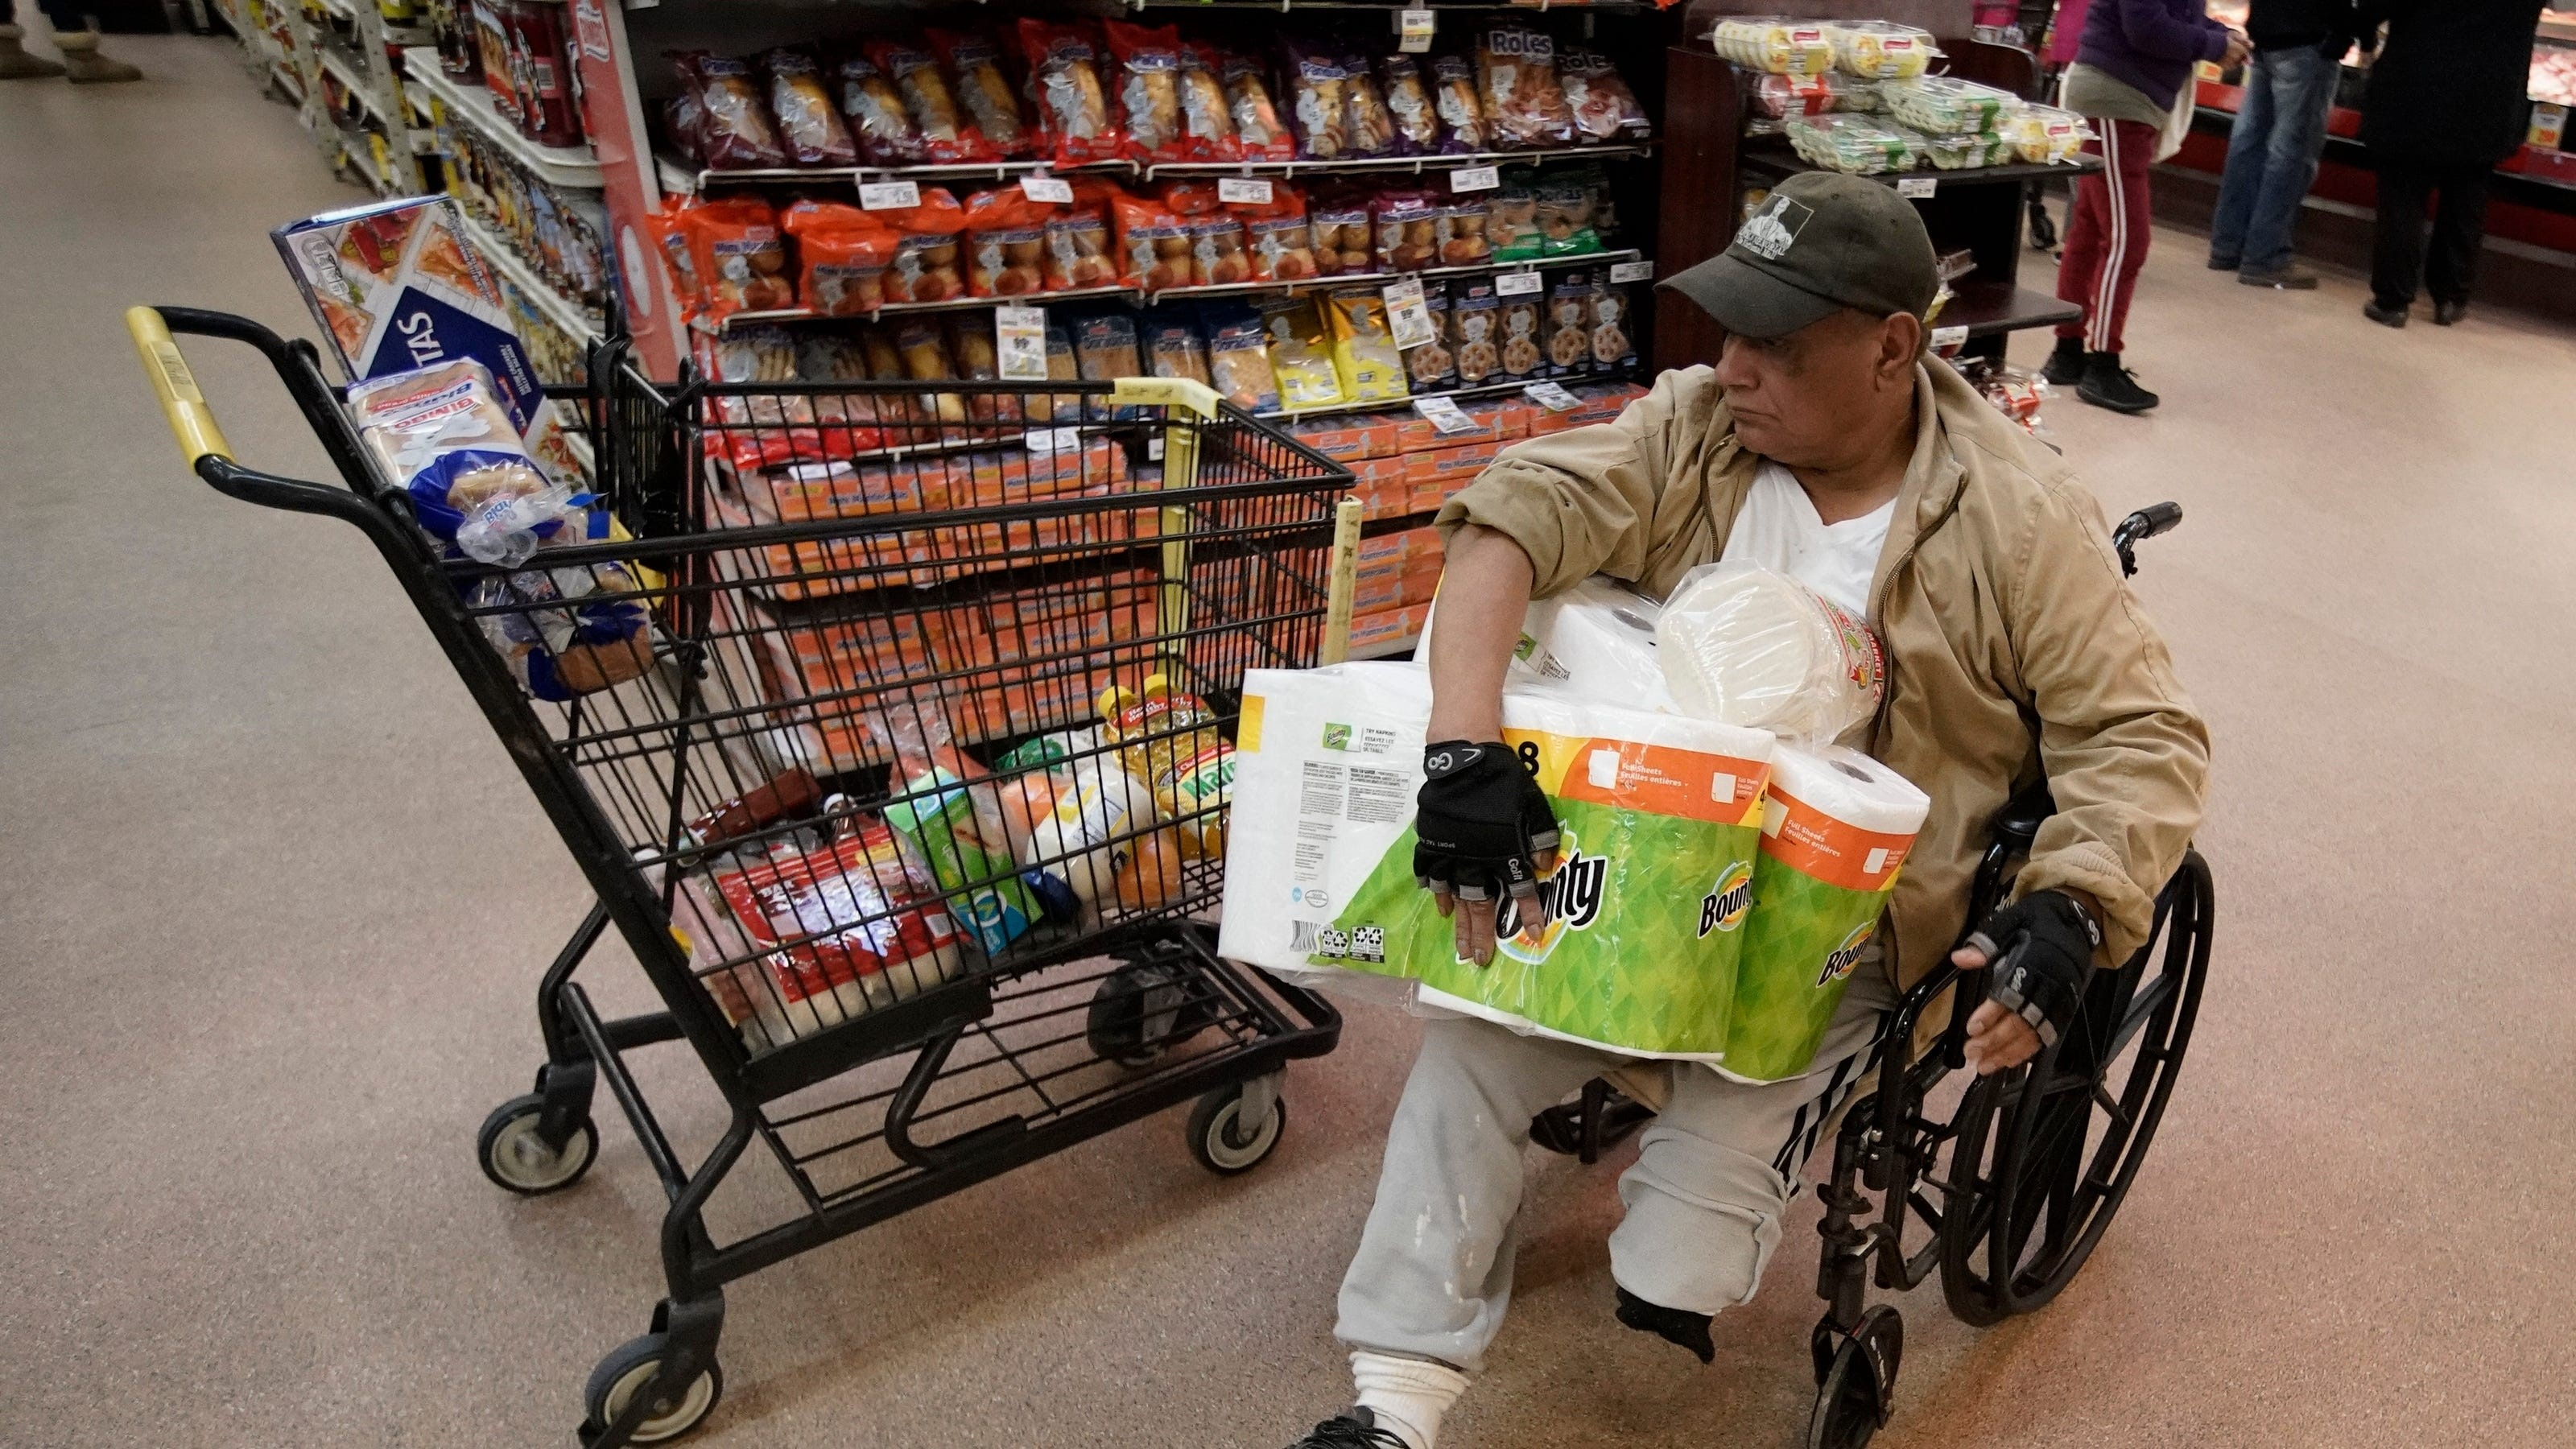face_no_mask: (1689, 234, 1926, 489)
